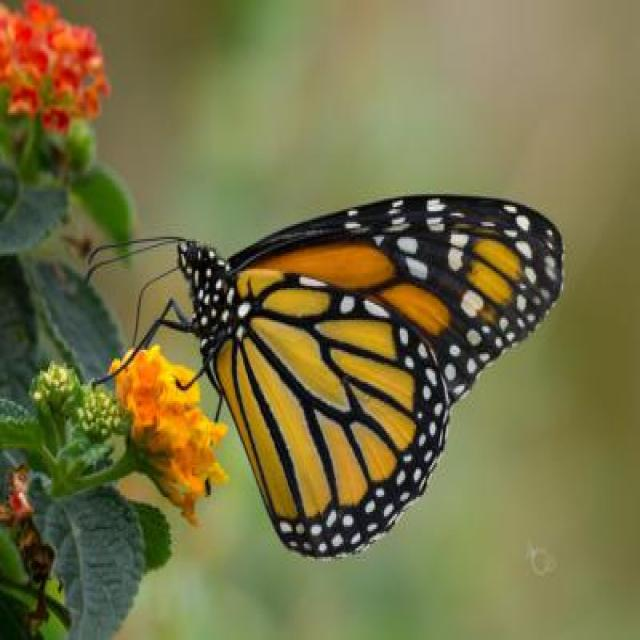antennae: (81, 225, 185, 281)
body: (169, 230, 244, 374)
insect: (78, 188, 564, 562)
legs: (93, 275, 228, 448)
mouthpart: (133, 260, 185, 348)
wings: (215, 194, 563, 559)
